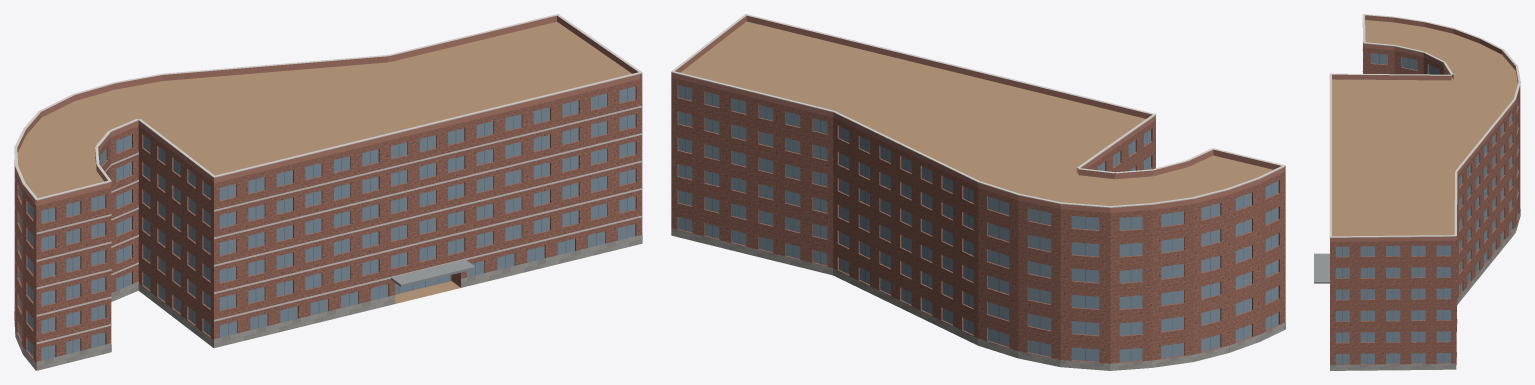
3 views of the same model, side by side, from view 1: azimuth 30°, elevation 25°; view 2: azimuth 150°, elevation 25°; view 3: azimuth 270°, elevation 25° (orthographic). The views are drawn at different scales.
Visible parts, largest first — view 1: sciTech__wall, sciTech__roof, sciTech__glass, sciTech__trim, sciTech__parapet, sciTech__base, sciTech__frame, sciTech__canopy; view 2: sciTech__wall, sciTech__roof, sciTech__glass, sciTech__parapet, sciTech__base, sciTech__trim, sciTech__frame; view 3: sciTech__roof, sciTech__wall, sciTech__glass, sciTech__parapet, sciTech__trim, sciTech__base, sciTech__frame, sciTech__canopy.
Boxes of the visible parts, x1=… form: sciTech__wall: x1=14, y1=79, x2=642, y2=370; sciTech__roof: x1=17, y1=22, x2=631, y2=303; sciTech__glass: x1=19, y1=86, x2=635, y2=360; sciTech__trim: x1=14, y1=14, x2=642, y2=344; sciTech__parapet: x1=15, y1=15, x2=642, y2=205; sciTech__base: x1=14, y1=234, x2=642, y2=370; sciTech__frame: x1=20, y1=88, x2=627, y2=358; sciTech__canopy: x1=391, y1=259, x2=475, y2=286; sciTech__wall: x1=671, y1=77, x2=1285, y2=363; sciTech__roof: x1=680, y1=21, x2=1273, y2=205; sciTech__glass: x1=678, y1=85, x2=1278, y2=361; sciTech__parapet: x1=671, y1=15, x2=1285, y2=212; sciTech__base: x1=671, y1=228, x2=1285, y2=370; sciTech__trim: x1=671, y1=14, x2=1285, y2=207; sciTech__frame: x1=685, y1=87, x2=1271, y2=360; sciTech__roof: x1=1332, y1=20, x2=1517, y2=370; sciTech__wall: x1=1330, y1=41, x2=1520, y2=364; sciTech__glass: x1=1335, y1=53, x2=1517, y2=364; sciTech__parapet: x1=1330, y1=15, x2=1520, y2=241; sciTech__trim: x1=1329, y1=14, x2=1520, y2=237; sciTech__base: x1=1330, y1=209, x2=1520, y2=370; sciTech__frame: x1=1342, y1=54, x2=1476, y2=364; sciTech__canopy: x1=1314, y1=253, x2=1329, y2=283.
Bounding box in the file's own units: 80.3 × 22.42 × 31.4.
9 materials, 2 textured.
